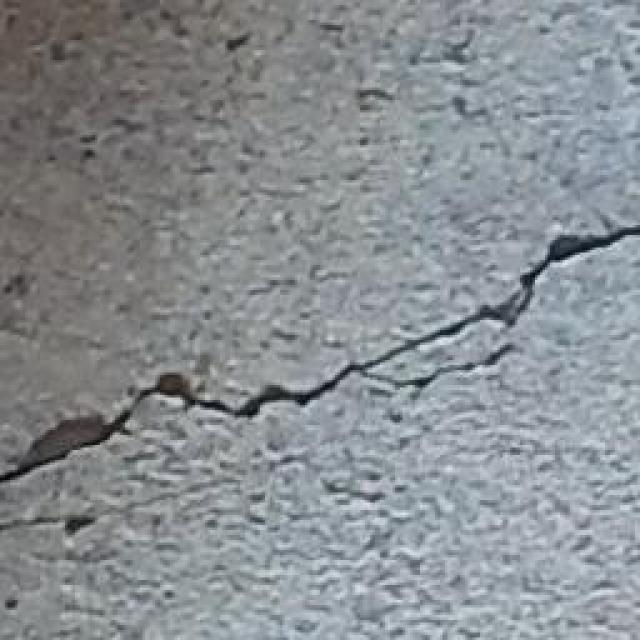concrete-crack: (0, 225, 639, 482)
